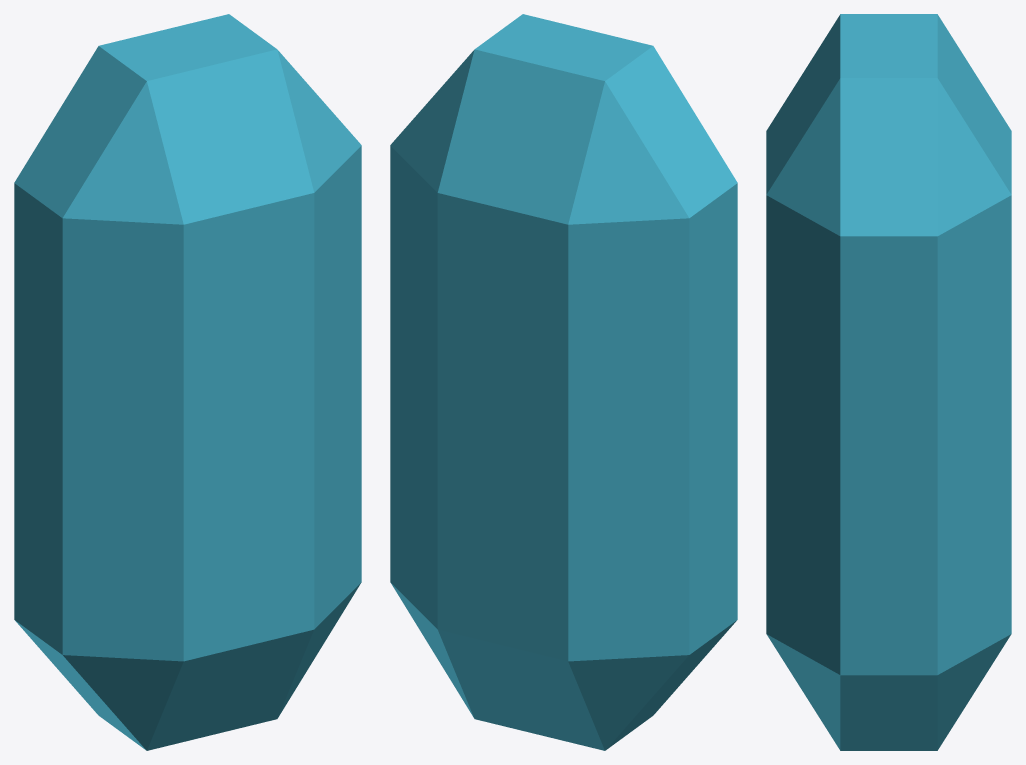
Rendered from UI_Gem_Blue.gltf.
3 views of the same model, side by side, from view 1: azimuth 30°, elevation 25°; view 2: azimuth 150°, elevation 25°; view 3: azimuth 270°, elevation 25° (orthographic).
Visible parts, largest first — view 1: UI_Gem_Blue; view 2: UI_Gem_Blue; view 3: UI_Gem_Blue.
Boxes of the visible parts, x1,y1,x2,y2 form: UI_Gem_Blue: [14, 14, 361, 750]; UI_Gem_Blue: [390, 14, 737, 750]; UI_Gem_Blue: [766, 14, 1011, 750].
Size of the model in its own units: 0.369 by 0.7892 by 0.2608.
Materials: 1 (1 with a texture image).
